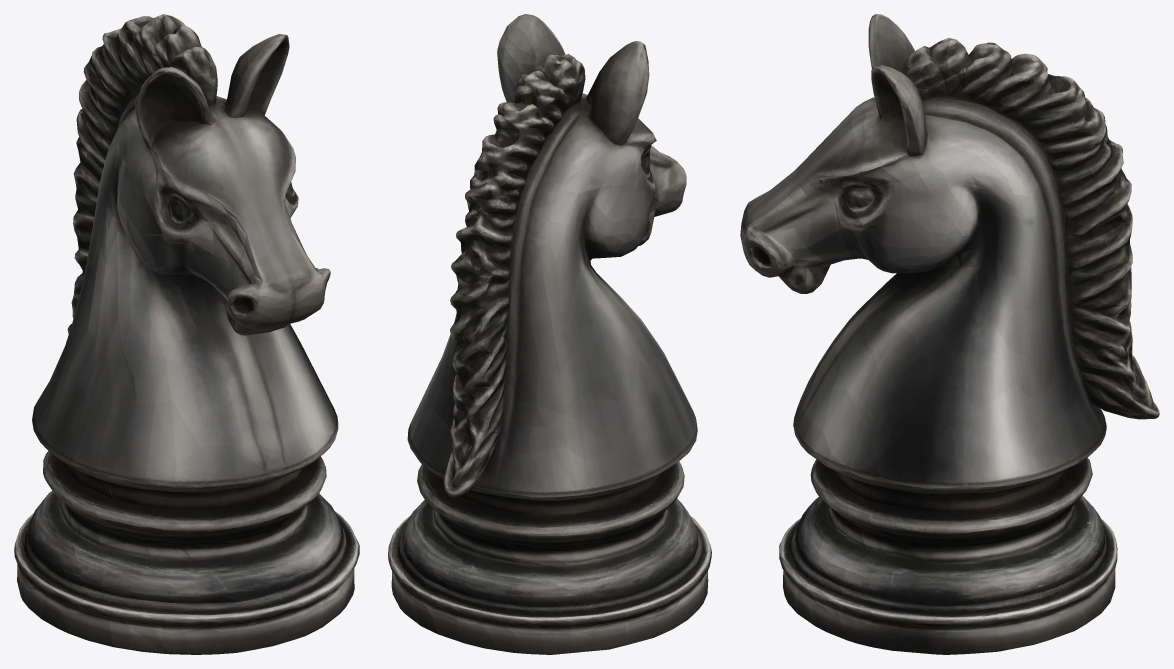
Rendered from chess-knight.glb.
The picture shows the model from 3 angles, left to right: view 1: azimuth 30°, elevation 25°; view 2: azimuth 150°, elevation 25°; view 3: azimuth 270°, elevation 25°; orthographic projection. The views are drawn at different scales.
Parts seen in each view (by area): view 1: world; view 2: world; view 3: world.
Part boxes in pixels (x1,y1,x2,y2): world: (14,14,359,654); world: (388,14,711,654); world: (740,14,1159,654).
Bounding box in the file's own units: 0.5542 × 0.9993 × 0.6933.
Materials: 1 (1 with a texture image).
